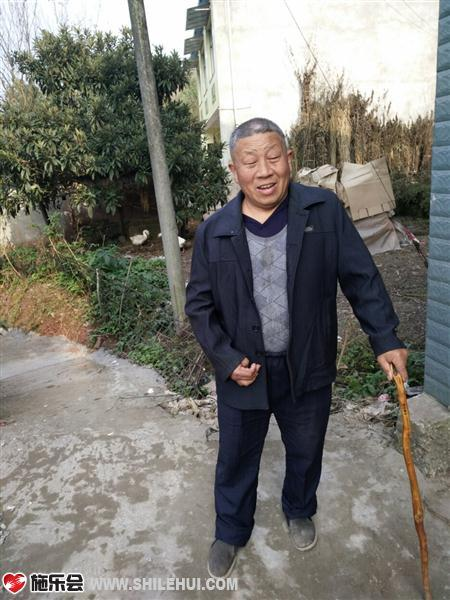standing: (176, 107, 424, 592)
